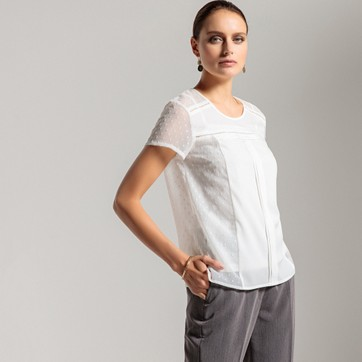S_short blouse: (146, 83, 296, 291)
